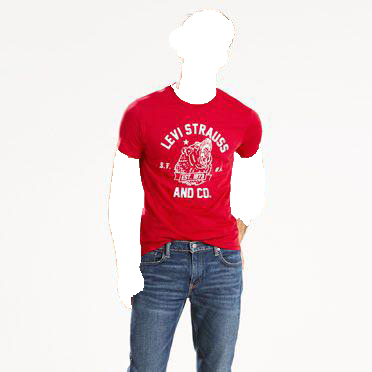teeshirt: (116, 77, 272, 253)
